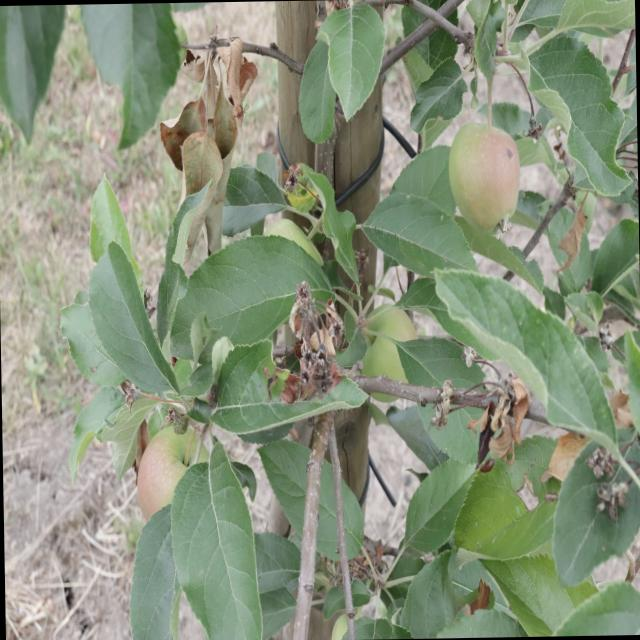-FireBlight-: (160, 40, 252, 249), (274, 280, 357, 394), (498, 350, 536, 476)
